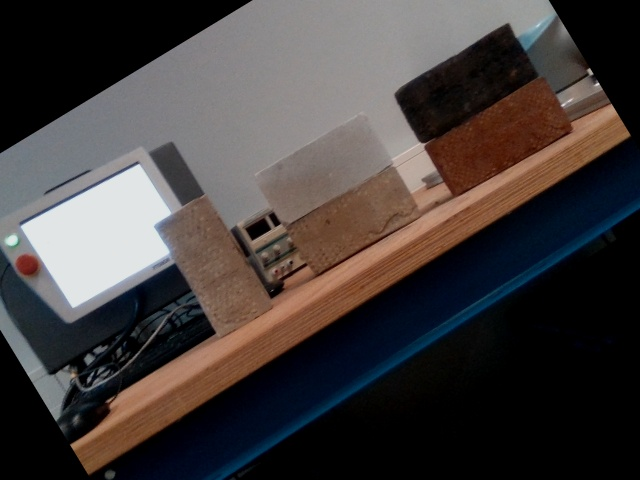brick: (395, 26, 535, 140), (429, 81, 569, 189), (159, 199, 270, 334), (258, 117, 389, 224), (290, 168, 416, 270)
